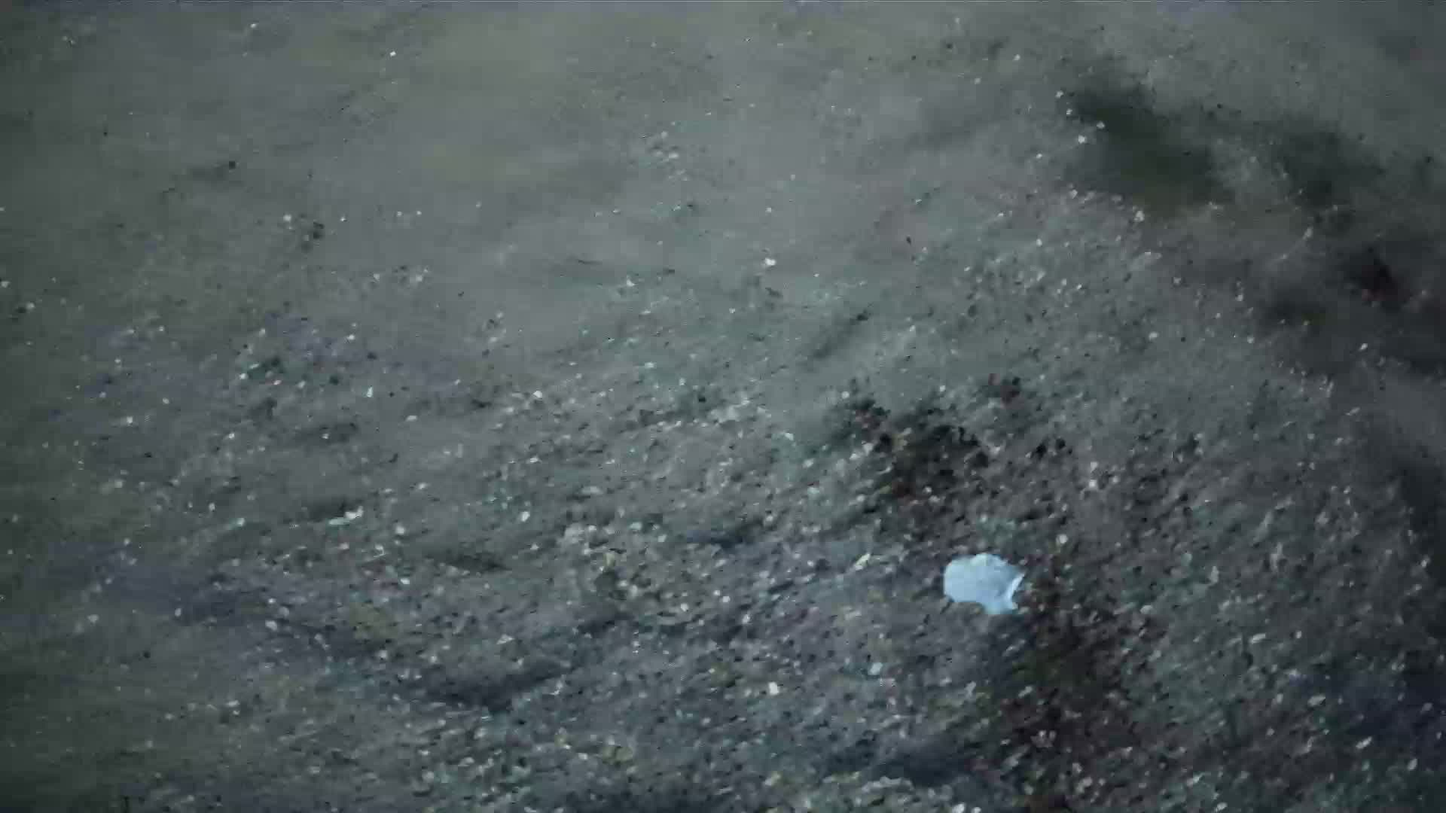Target: (942, 547, 1034, 620)
